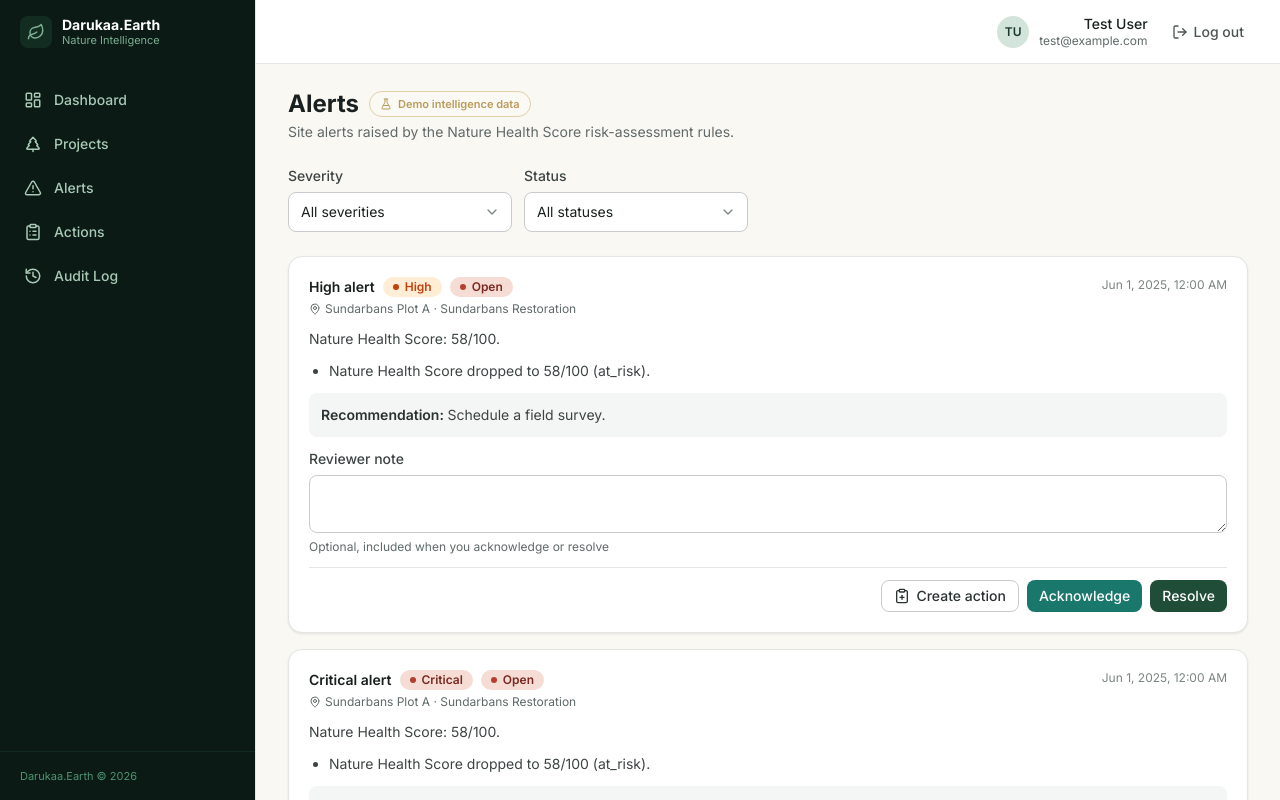
Test: AlertsPage filtering › re-fetches with the selected severity and renders only the matching alerts
Check: the heading "High alert" is shown, box x1=309 y1=277 x2=375 y2=297
Select "Critical" in the dropdown labelled "Severity" at (400, 212), box x1=288 y1=192 x2=512 y2=232
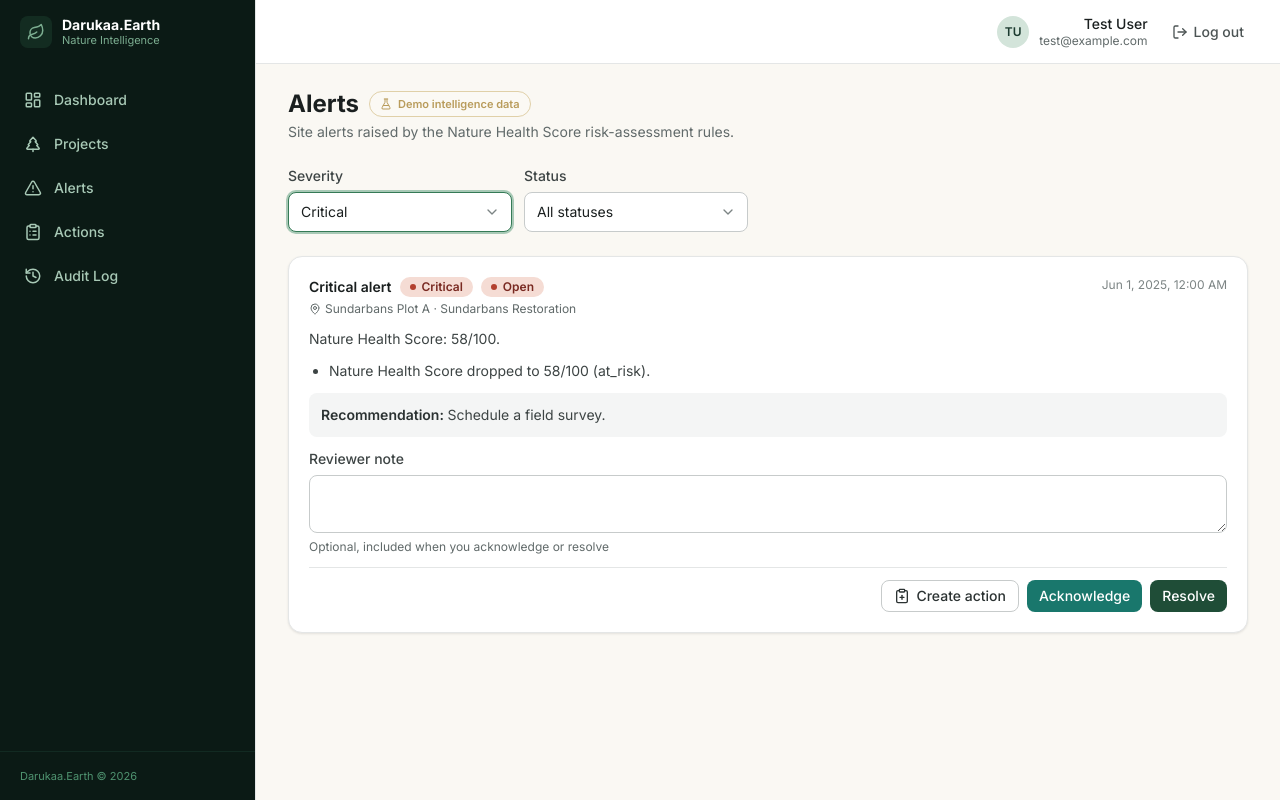
Check: the heading "Critical alert" is shown, box x1=309 y1=277 x2=392 y2=297
Check: the heading "High alert" is gone
